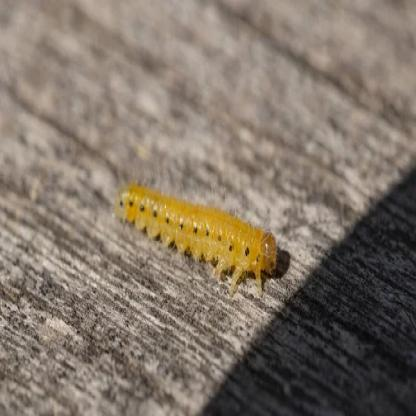sawfly: (112, 175, 282, 301)
